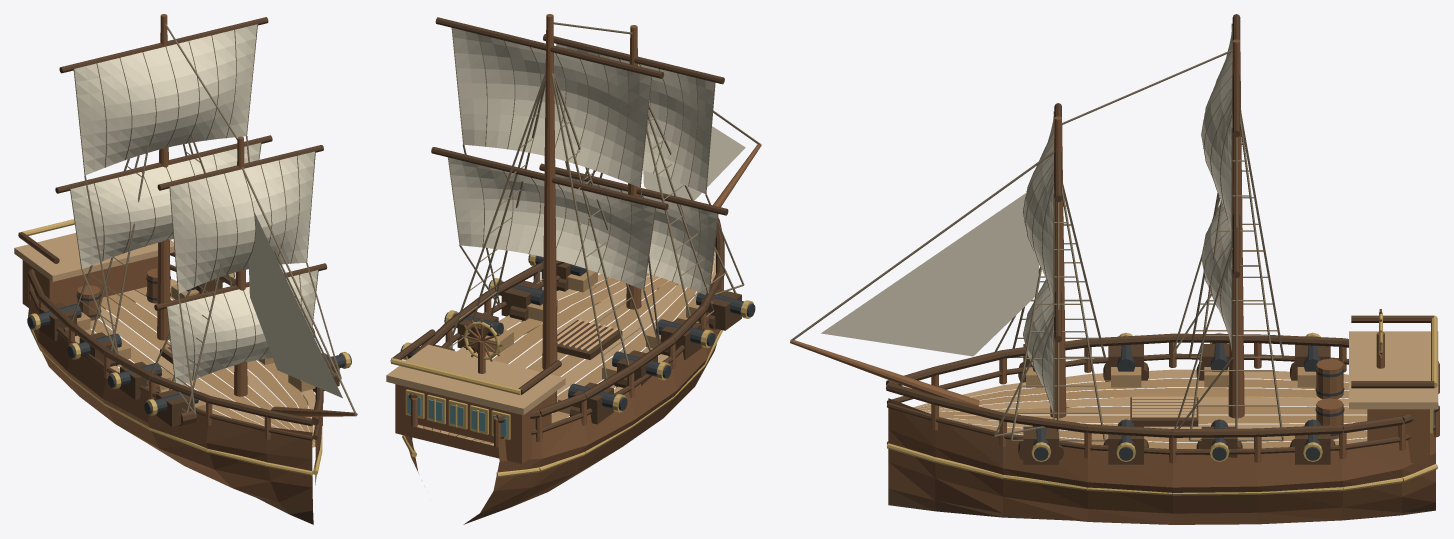
File: brigantine.glb
The picture shows the model from 3 angles, left to right: view 1: azimuth 30°, elevation 25°; view 2: azimuth 150°, elevation 25°; view 3: azimuth 270°, elevation 25°; orthographic projection. The views are drawn at different scales.
Visible parts, largest first — view 1: Brigantine; view 2: Brigantine; view 3: Brigantine.
Part boxes in pixels (bbox=[...]): Brigantine: bbox=[14, 14, 357, 524]; Brigantine: bbox=[386, 14, 761, 524]; Brigantine: bbox=[790, 14, 1439, 524].
Size of the model in its own units: 3.38 by 6.15 by 7.65.
